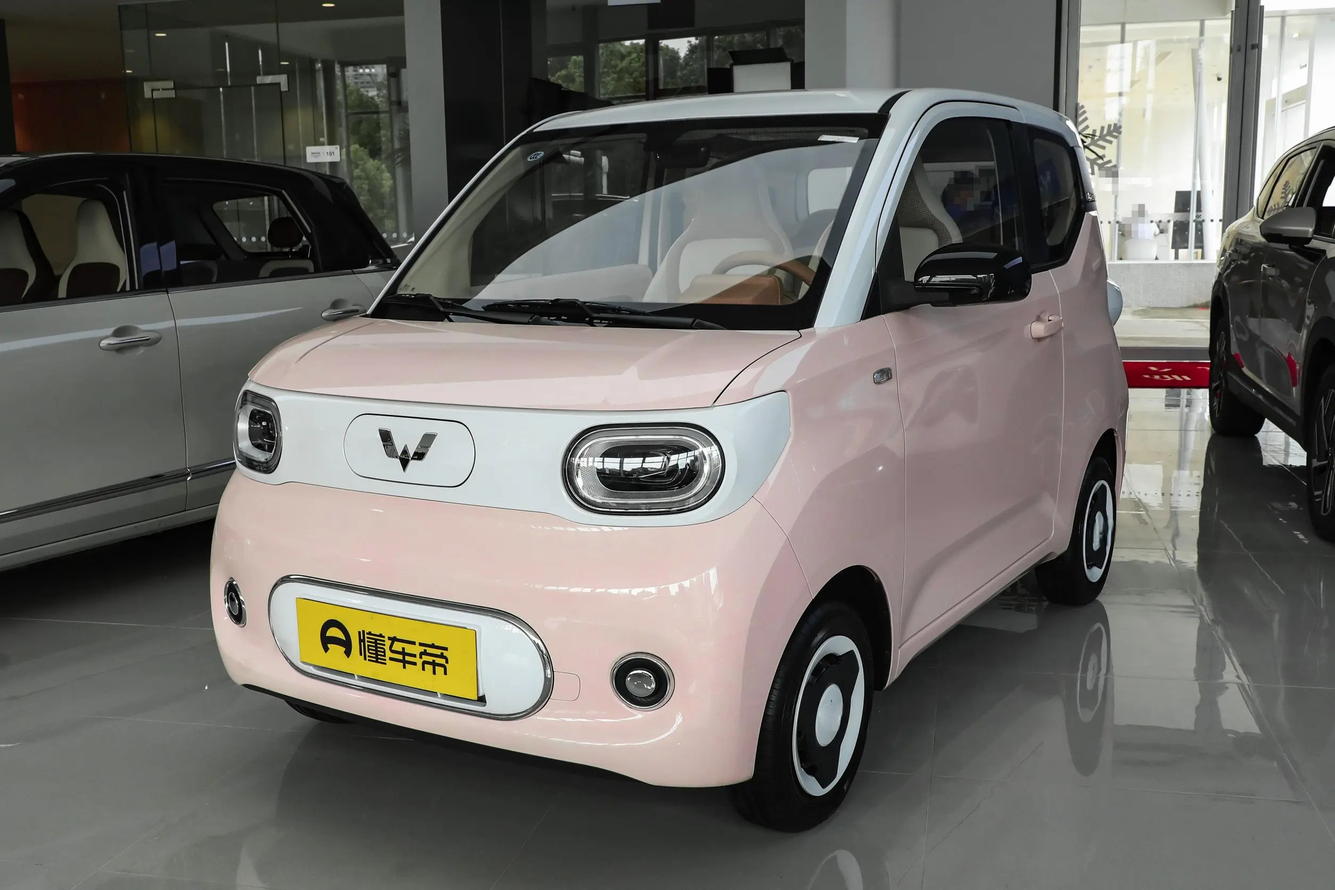SGMW: (378, 428, 436, 472)
